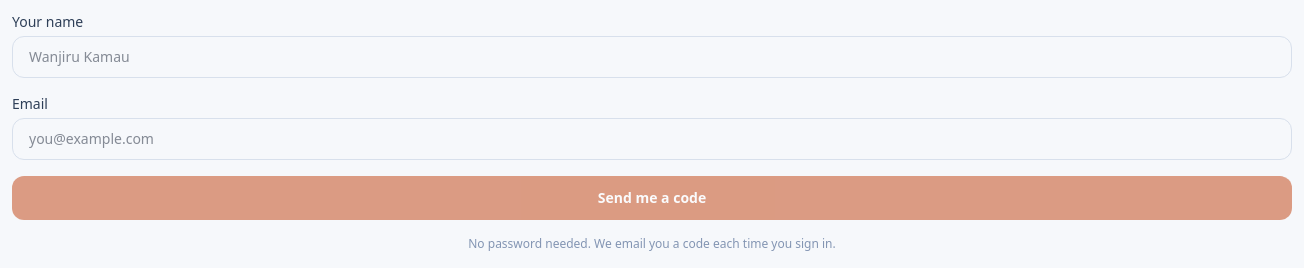
JoinForm › lets the user go back and correct a mistyped email
In the field labelled "Email": (652, 139) [12, 118, 1292, 160], type "typo@example.com"
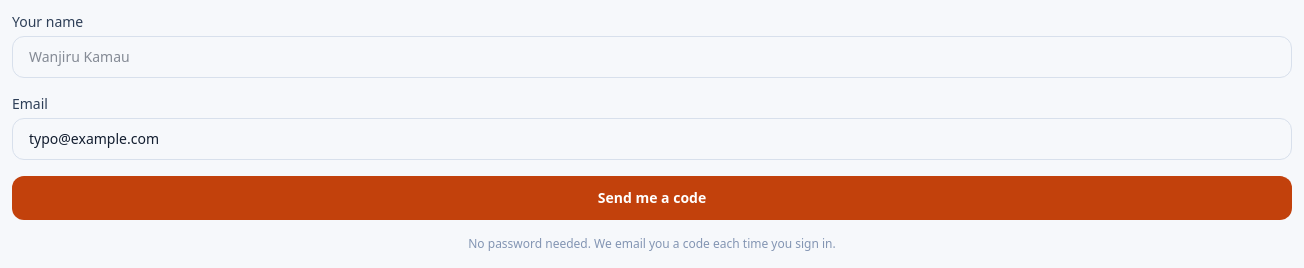
Click the button "Send me a code": (652, 198) [12, 176, 1292, 220]
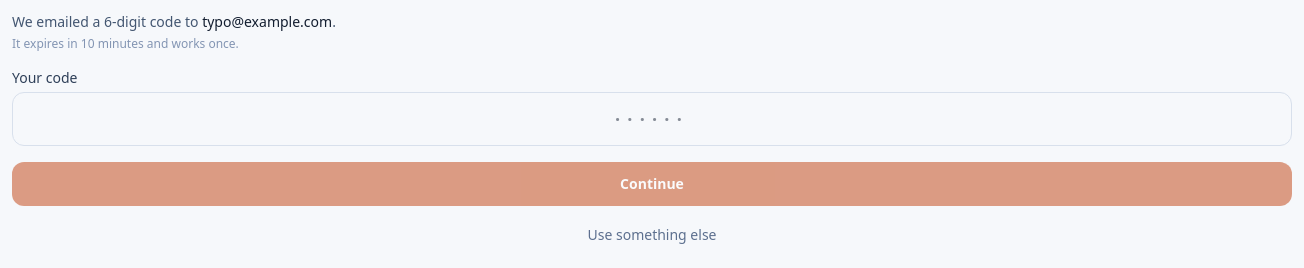
Expected: the field labelled "Your code" is shown, [12, 92, 1292, 146]
Click the button "Use something else": (652, 235) [12, 225, 1292, 245]
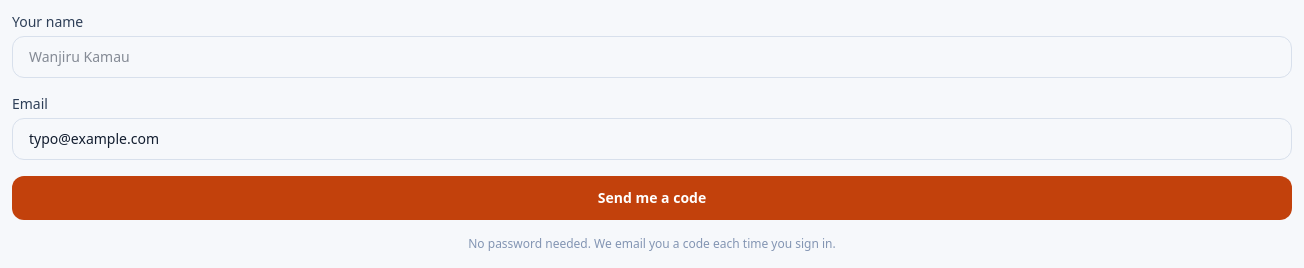
Expected: the label labelled "Your code" is gone
